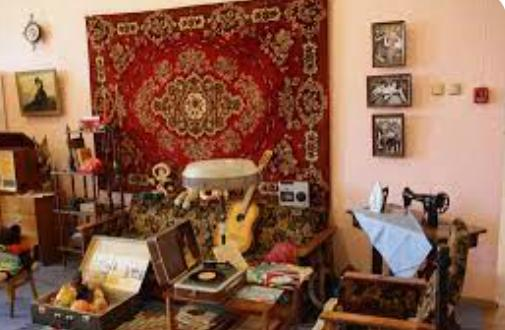carpet: (87, 0, 329, 222)
